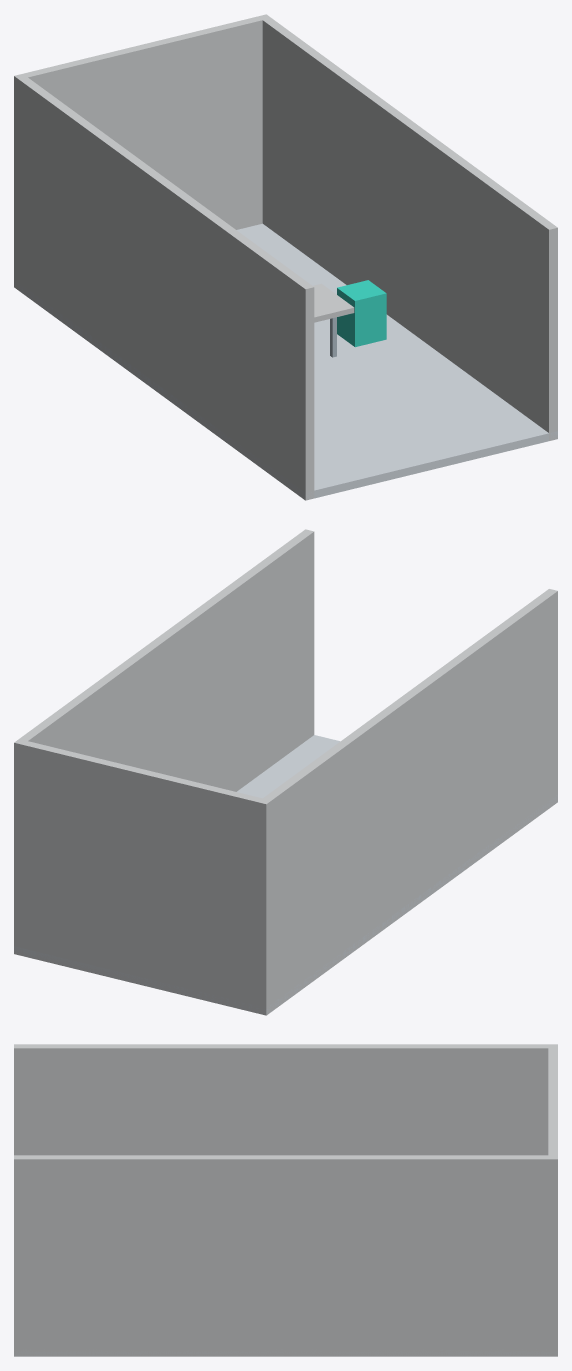
The picture shows the model from 3 angles, top to bottom: view 1: azimuth 30°, elevation 25°; view 2: azimuth 150°, elevation 25°; view 3: azimuth 270°, elevation 25°; orthographic projection. The views are drawn at different scales.
Visible parts, largest first — view 1: Exhibition Booth Concept; view 2: Exhibition Booth Concept; view 3: Exhibition Booth Concept.
Boxes of the visible parts, x1,y1,x2,y2 form: Exhibition Booth Concept: [14, 14, 557, 500]; Exhibition Booth Concept: [14, 529, 557, 1015]; Exhibition Booth Concept: [14, 1044, 557, 1356].
Size of the model in its own units: 4 by 3.2 by 8.
